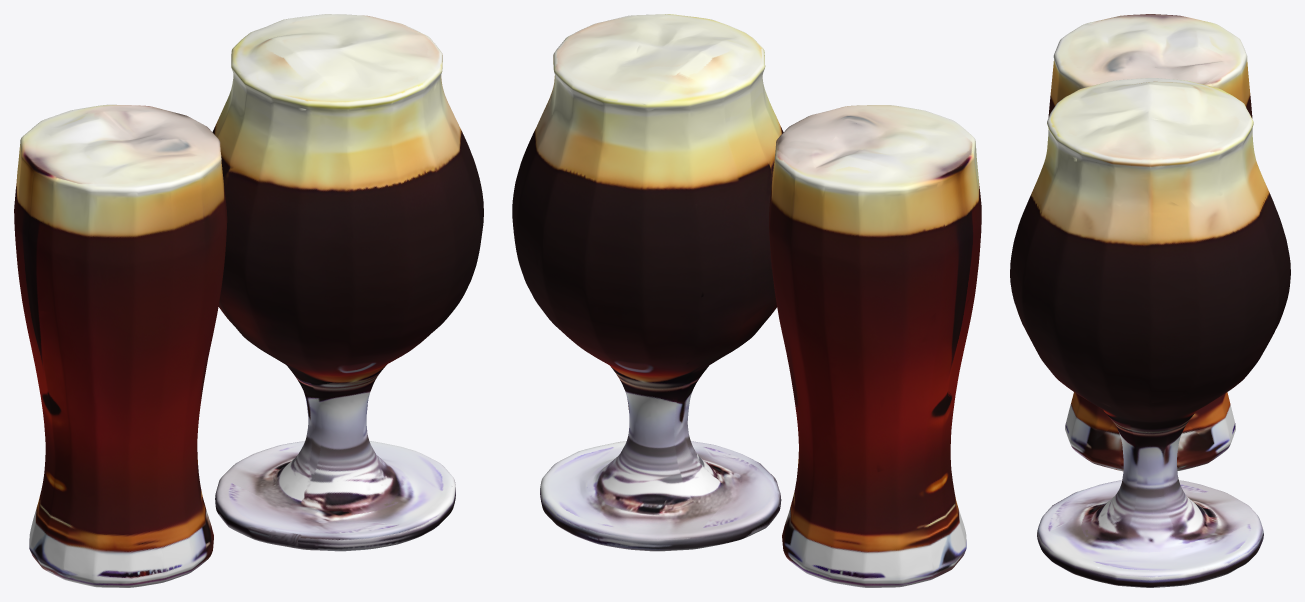
Rendered from Vose Rose.glb.
3 renders of one model, left to right at view 1: azimuth 30°, elevation 25°; view 2: azimuth 150°, elevation 25°; view 3: azimuth 270°, elevation 25°, orthographic. The views are drawn at different scales.
Visible parts, largest first — view 1: texture_v100.001; view 2: texture_v100.001; view 3: texture_v100.001.
Part boxes in pixels (x1=…): texture_v100.001: x1=14, y1=14, x2=483, y2=587; texture_v100.001: x1=512, y1=14, x2=981, y2=587; texture_v100.001: x1=1010, y1=14, x2=1290, y2=587.
Bounding box in the file's own units: 0.889 × 0.8941 × 0.5193.
1 material, 1 textured.
